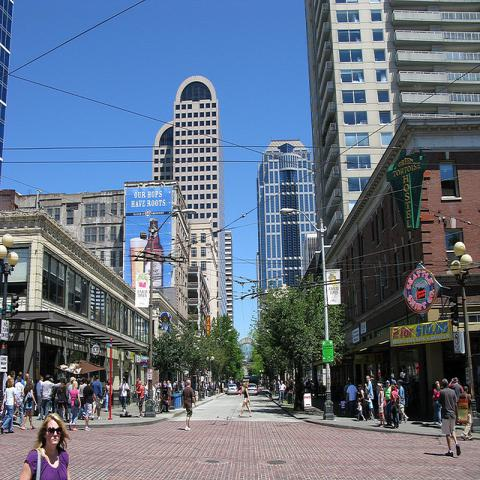car: (247, 383, 258, 393), (228, 384, 238, 395)
